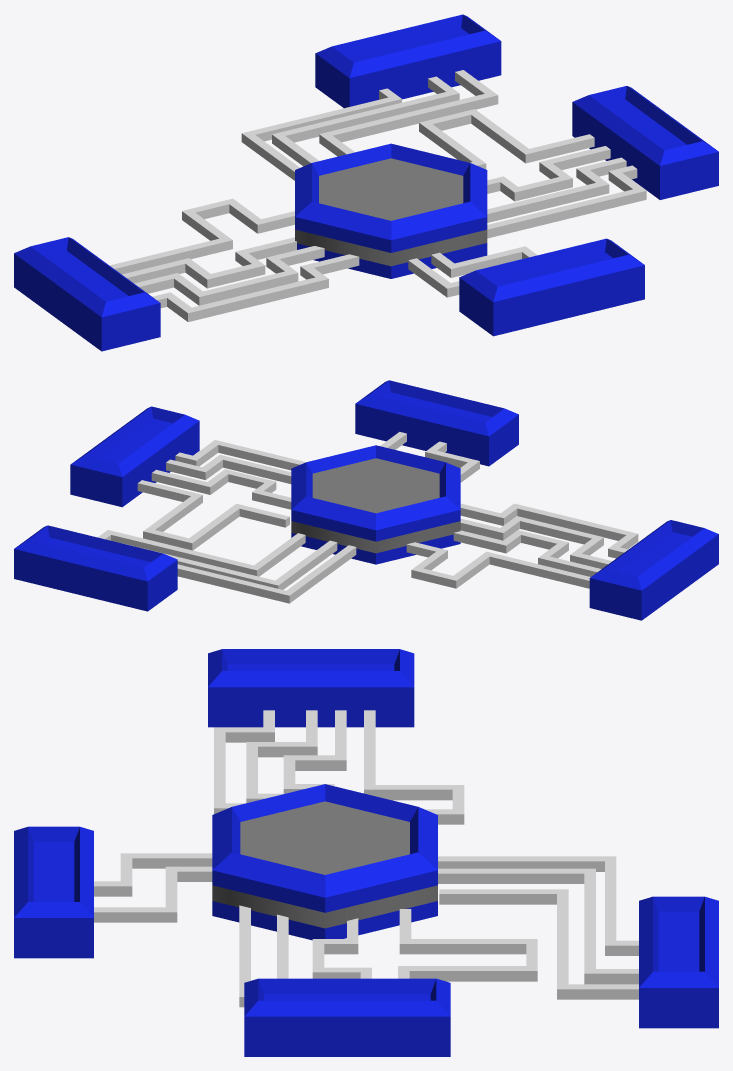
Rendered from puzzle_pad2.fbx.
The picture shows the model from 3 angles, top to bottom: view 1: azimuth 30°, elevation 25°; view 2: azimuth 150°, elevation 25°; view 3: azimuth 270°, elevation 25°; orthographic projection. The views are drawn at different scales.
Visible parts, largest first — view 1: Line019, Platform, Box006, Box005, Box004, Box003; view 2: Line019, Platform, Box005, Box006, Box004, Box003; view 3: Line019, Platform, Box003, Box004, Box005, Box006.
Boxes of the visible parts, x1=… form: Line019: x1=109, y1=70, x2=646, y2=321; Platform: x1=295, y1=143, x2=487, y2=278; Box006: x1=459, y1=238, x2=644, y2=336; Box005: x1=315, y1=14, x2=501, y2=108; Box004: x1=14, y1=237, x2=160, y2=351; Box003: x1=572, y1=86, x2=718, y2=199; Line019: x1=98, y1=432, x2=638, y2=603; Platform: x1=291, y1=445, x2=460, y2=564; Box005: x1=14, y1=525, x2=177, y2=611; Box006: x1=355, y1=380, x2=518, y2=466; Box004: x1=589, y1=520, x2=718, y2=620; Box003: x1=70, y1=406, x2=199, y2=507; Line019: x1=94, y1=710, x2=638, y2=1007; Platform: x1=212, y1=784, x2=437, y2=940; Box003: x1=244, y1=978, x2=450, y2=1056; Box004: x1=208, y1=649, x2=414, y2=727; Box005: x1=639, y1=896, x2=718, y2=1028; Box006: x1=14, y1=826, x2=93, y2=958.
Bounding box in the file's own units: 37.11 × 2.8 × 30.43.
